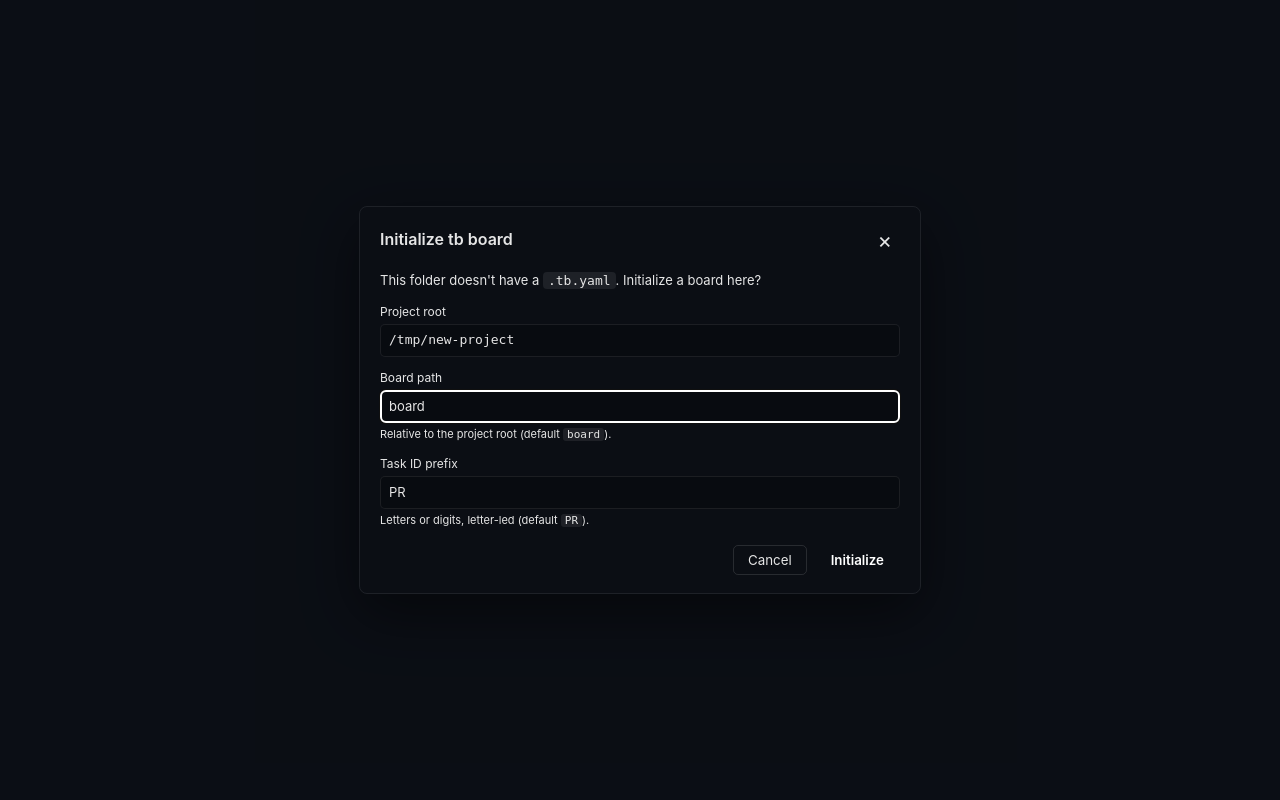
Test case: InitBoardDialog › blocks submit when the prefix is invalid
Type "1bad" into the field labelled "Task ID prefix Letters or digits, letter-led (default PR)." at (640, 493), box [380,476,900,509]
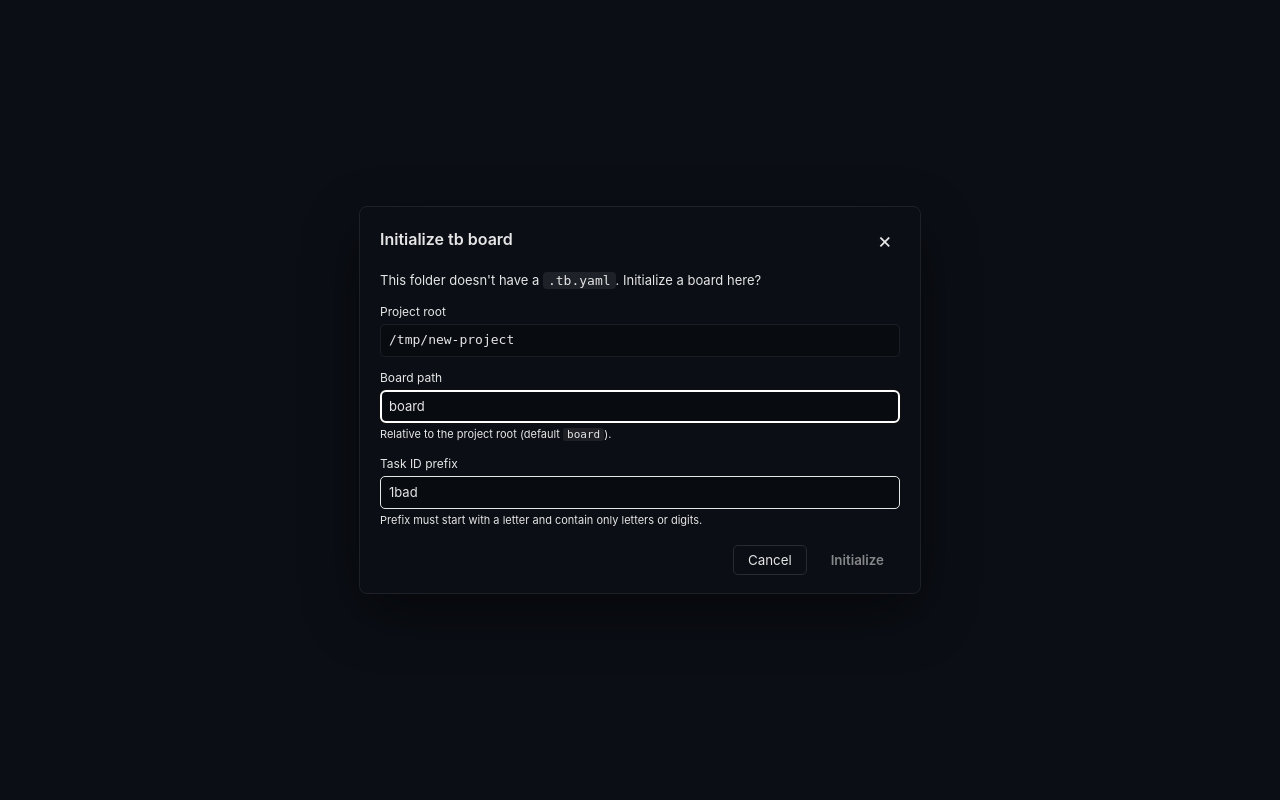
Now the button "Initialize" is disabled, box [815,545,900,575]
